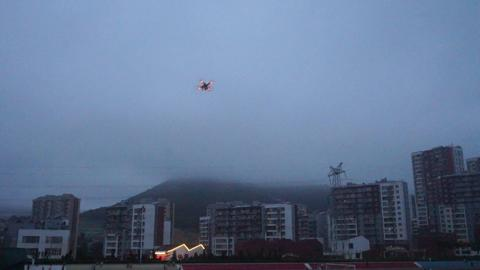UAV: (194, 80, 214, 92)
